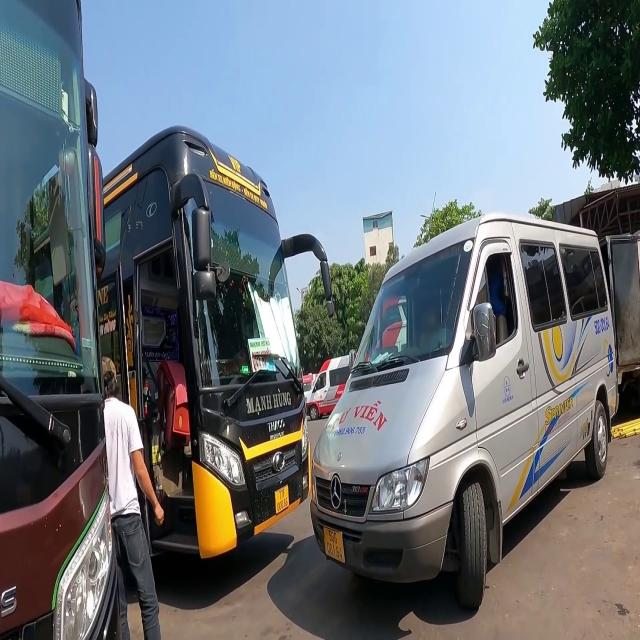bien_vang: (322, 528, 345, 564), (273, 484, 290, 516)
